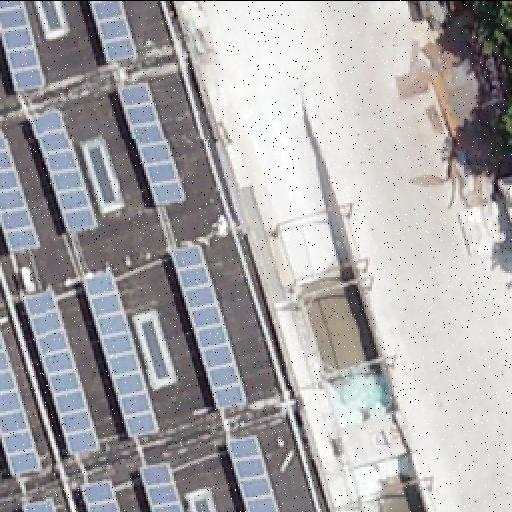solar-panel: (167, 241, 249, 407), (21, 287, 99, 457), (84, 269, 160, 435), (27, 105, 101, 231), (116, 81, 188, 207), (0, 339, 40, 477), (0, 125, 40, 251), (0, 0, 48, 90), (226, 433, 278, 511), (86, 0, 138, 64), (137, 464, 183, 512), (78, 476, 122, 512), (21, 497, 59, 511)
